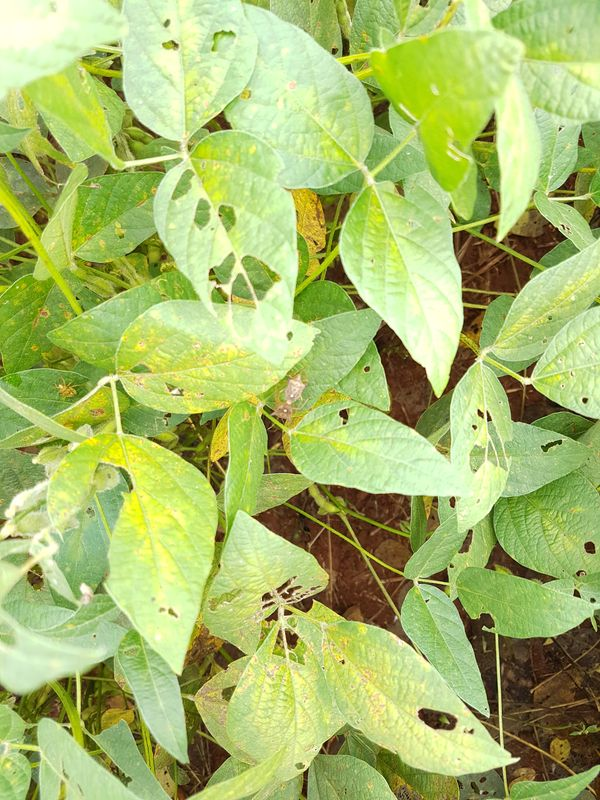Euschistus_heros_adulto: (276, 369, 312, 403), (265, 404, 302, 430)
Euschistus_heros_ninfa: (49, 375, 84, 404)
